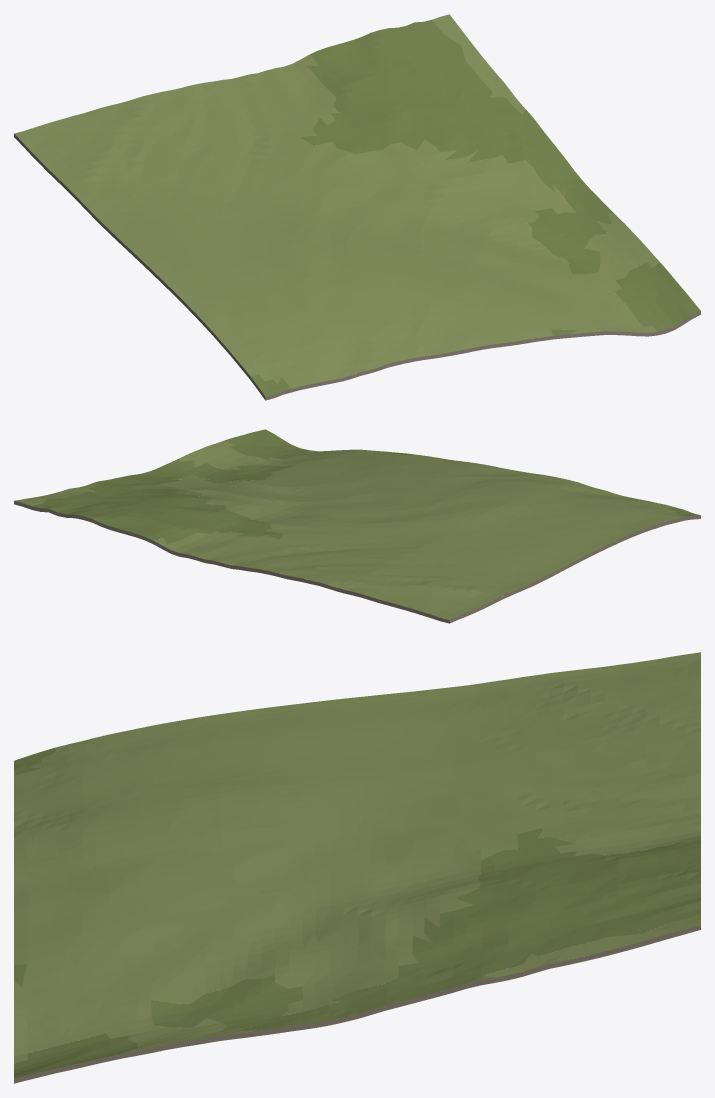
Rendered from parca_+4_-8-uzak.glb.
The picture shows the model from 3 angles, top to bottom: view 1: azimuth 30°, elevation 25°; view 2: azimuth 150°, elevation 25°; view 3: azimuth 270°, elevation 25°; orthographic projection. The views are drawn at different scales.
Visible parts, largest first — view 1: parca_+4_-8_arazi_uzak; view 2: parca_+4_-8_arazi_uzak; view 3: parca_+4_-8_arazi_uzak.
Boxes of the visible parts, left/top/right/bottom form: parca_+4_-8_arazi_uzak: left=14, top=14, right=700, bottom=400; parca_+4_-8_arazi_uzak: left=14, top=429, right=700, bottom=623; parca_+4_-8_arazi_uzak: left=14, top=652, right=700, bottom=1083.
Size of the model in its own units: 1000 by 281 by 1000.
